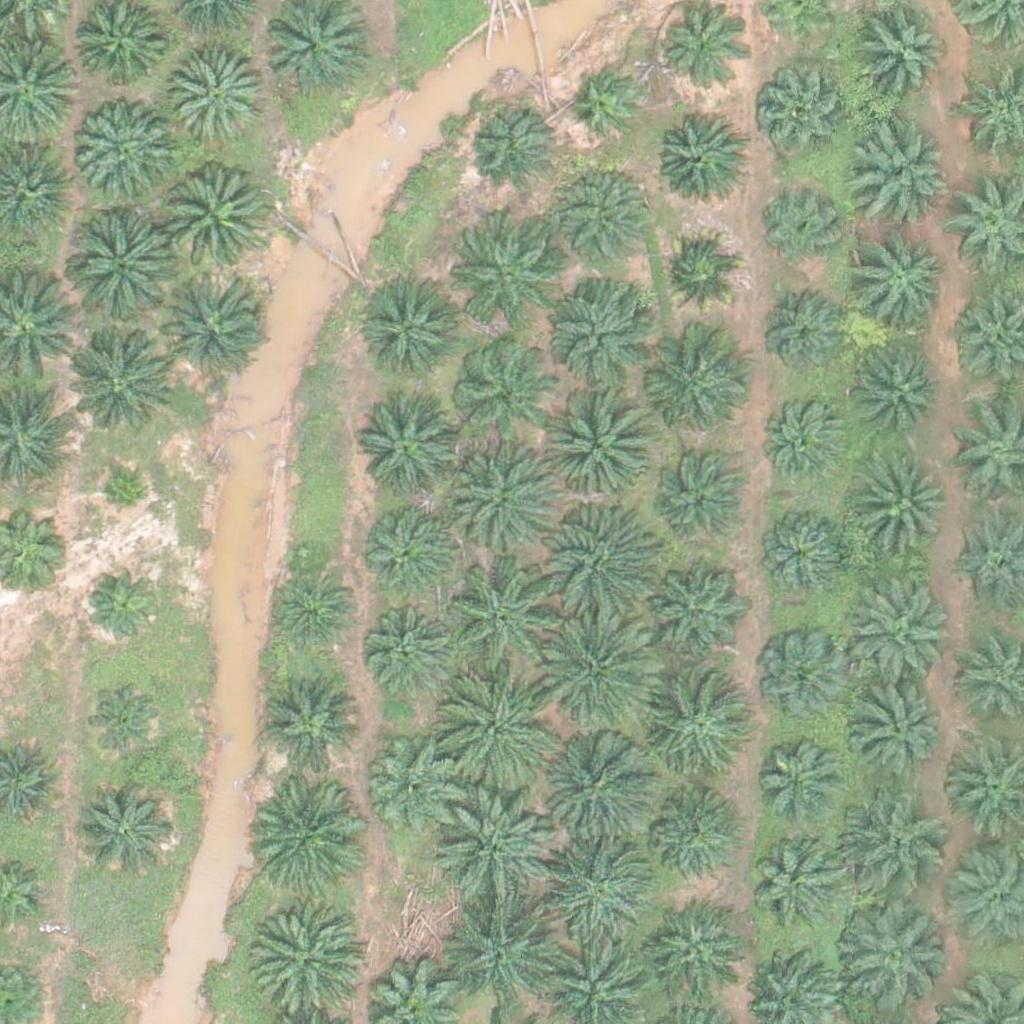Kelapa_Sawit: (252, 776, 365, 890), (833, 901, 946, 1014), (436, 793, 549, 906), (248, 900, 361, 1013), (545, 614, 658, 727), (545, 503, 658, 616), (544, 385, 657, 498), (545, 270, 658, 383), (442, 445, 555, 558), (444, 674, 557, 787), (61, 210, 174, 323), (58, 327, 171, 440), (541, 831, 653, 945), (846, 575, 958, 689), (549, 728, 661, 842), (840, 784, 952, 897), (447, 891, 559, 1004), (641, 329, 753, 442), (643, 679, 755, 792), (449, 559, 561, 672), (157, 162, 269, 275), (154, 270, 266, 383), (73, 782, 173, 883), (852, 227, 952, 328), (752, 627, 852, 728), (644, 567, 744, 668), (446, 227, 546, 328), (452, 339, 552, 440), (358, 493, 458, 594), (358, 401, 458, 502), (364, 275, 464, 376), (260, 673, 360, 774), (168, 48, 268, 149), (73, 101, 173, 202), (645, 910, 745, 1010), (851, 8, 951, 108), (854, 124, 954, 224), (855, 461, 955, 561), (848, 682, 948, 782), (753, 506, 853, 606), (553, 162, 653, 262), (365, 736, 465, 836), (361, 595, 461, 695), (82, 676, 170, 765), (750, 839, 838, 927), (647, 793, 735, 881), (854, 344, 942, 432), (753, 736, 841, 824), (759, 183, 847, 271), (760, 295, 848, 383), (760, 400, 848, 488), (468, 103, 556, 191), (757, 66, 844, 154), (659, 7, 746, 95), (655, 112, 742, 200), (80, 558, 167, 646), (655, 230, 742, 318), (652, 451, 739, 539), (267, 561, 354, 649), (571, 69, 646, 145), (99, 473, 149, 523)
